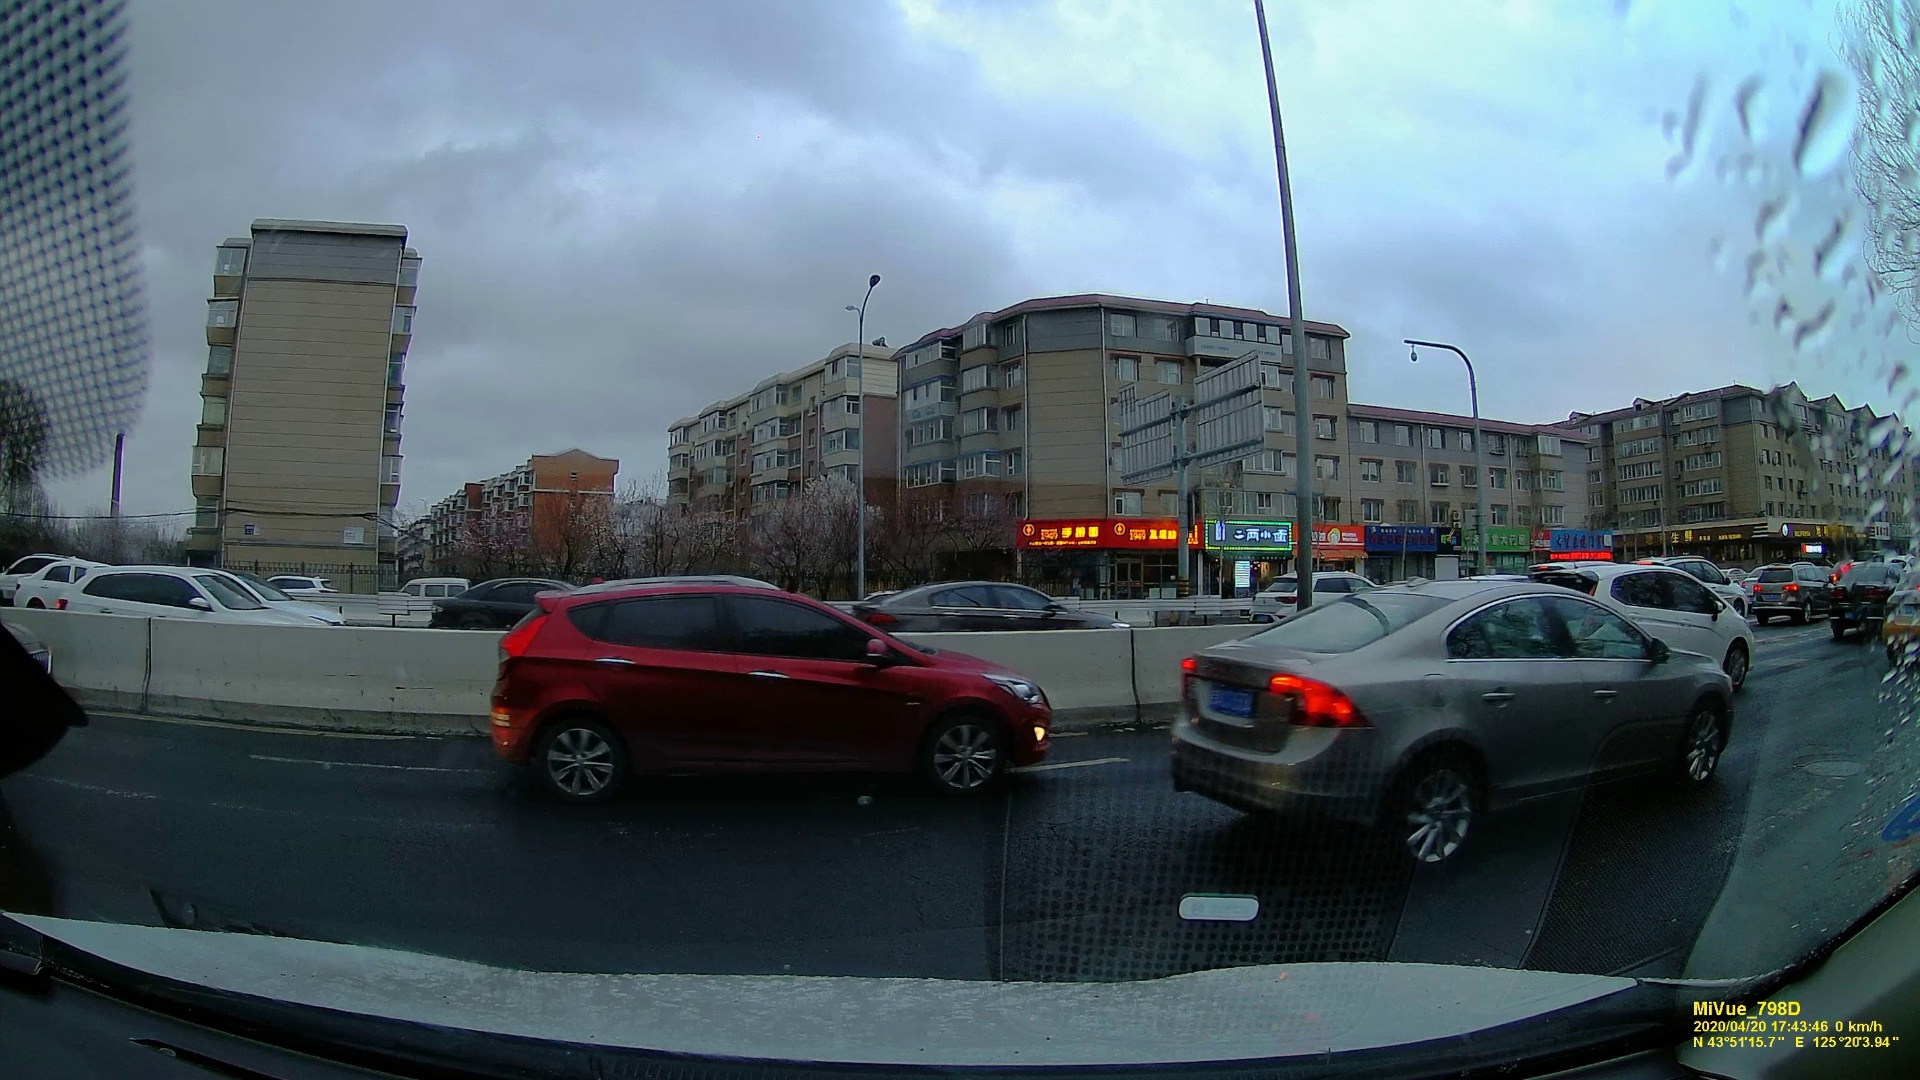minibus: (394, 574, 469, 603)
vehicle: (1172, 578, 1741, 860), (493, 576, 1059, 819), (61, 570, 316, 632), (869, 574, 1117, 636), (429, 579, 553, 630), (1833, 562, 1898, 637), (1750, 564, 1832, 622)
